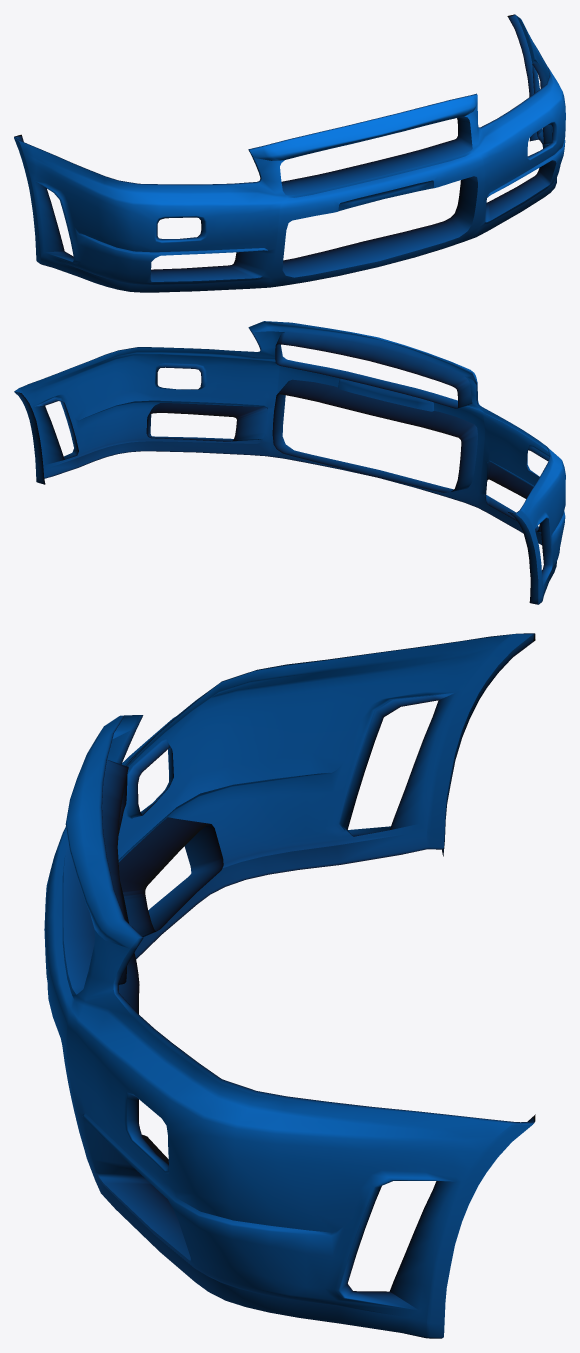
Rendered from R34_FB04_Duco.fbx.
3 views of the same model, one above another, from view 1: azimuth 30°, elevation 25°; view 2: azimuth 150°, elevation 25°; view 3: azimuth 270°, elevation 25° (orthographic). The views are drawn at different scales.
Parts seen in each view (by area): view 1: R34_FB04_Duco; view 2: R34_FB04_Duco; view 3: R34_FB04_Duco.
Part boxes in pixels (bbox=[...]): R34_FB04_Duco: bbox=[14, 14, 565, 292]; R34_FB04_Duco: bbox=[14, 321, 565, 604]; R34_FB04_Duco: bbox=[44, 633, 535, 1338].
Bounding box in the file's own units: 177 × 48.26 × 74.61.
